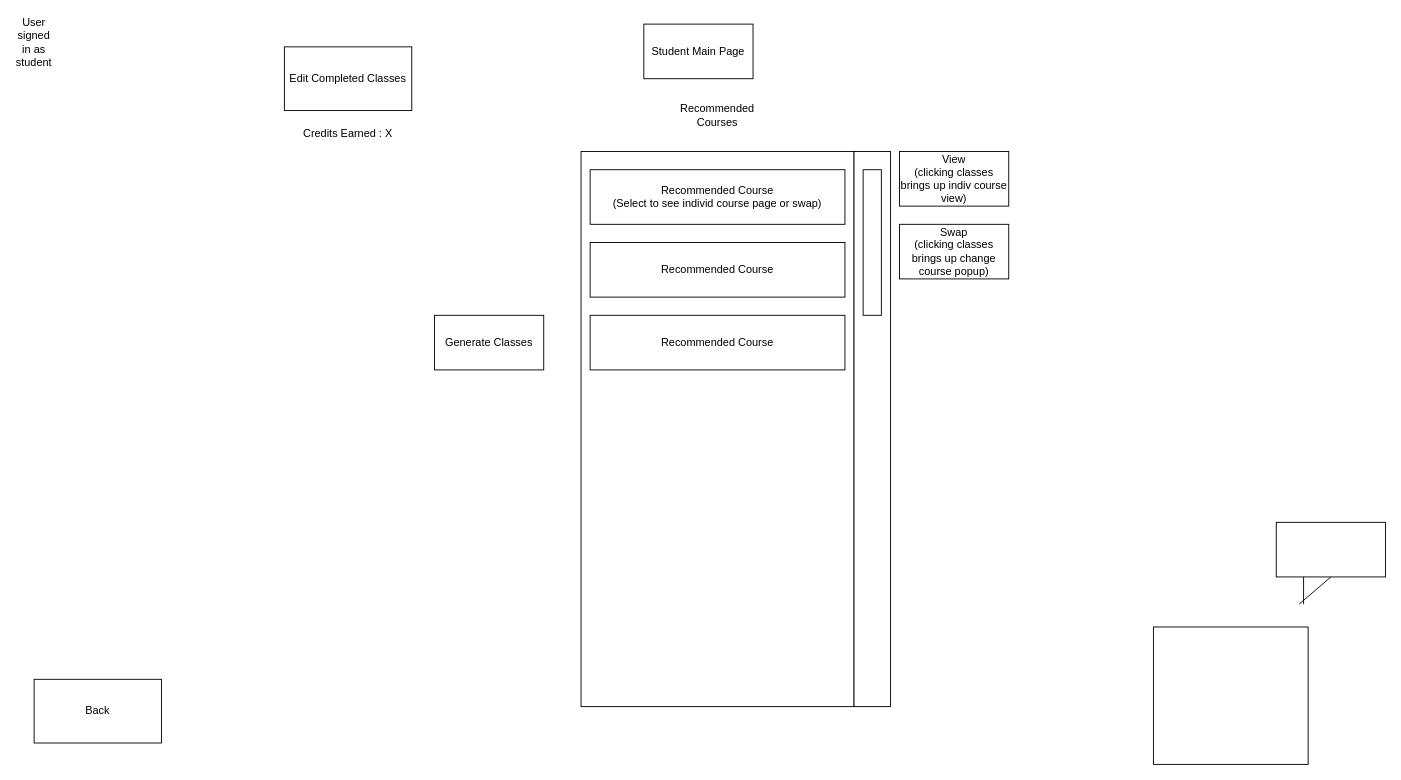
The diagram is 1401 pixels wide and 780 high, and some of its shapes have lost their labels. Here are the shapes that lost their labels. From the top down, the centre of each, then its label:
pixel 1330 549: Notification for new messages
pixel 1230 695: Messages
